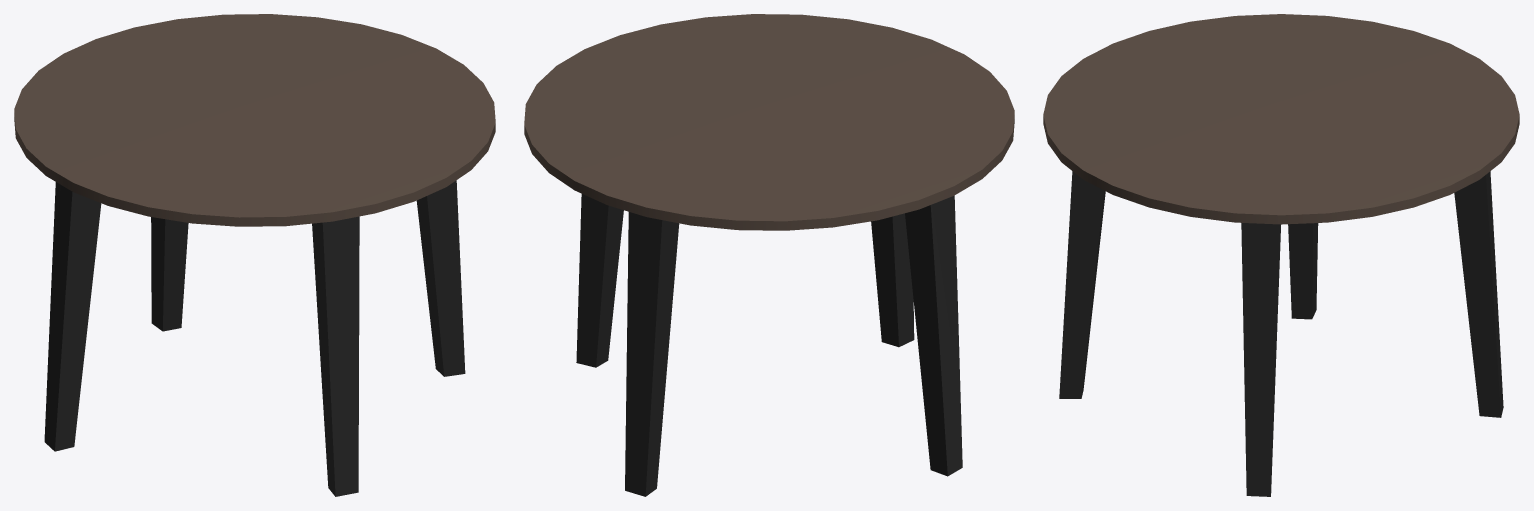
The model's file is TableRonde_15.fbx.
3 views of the same model, side by side, from view 1: azimuth 30°, elevation 25°; view 2: azimuth 150°, elevation 25°; view 3: azimuth 270°, elevation 25° (orthographic). The views are drawn at different scales.
Parts seen in each view (by area): view 1: pCylinder1781; view 2: pCylinder1781; view 3: pCylinder1781.
Boxes of the visible parts, x1=… form: pCylinder1781: x1=14, y1=14, x2=495, y2=496; pCylinder1781: x1=524, y1=14, x2=1014, y2=496; pCylinder1781: x1=1043, y1=14, x2=1519, y2=496.
Size of the model in its own units: 45.4 by 30.65 by 45.4.
